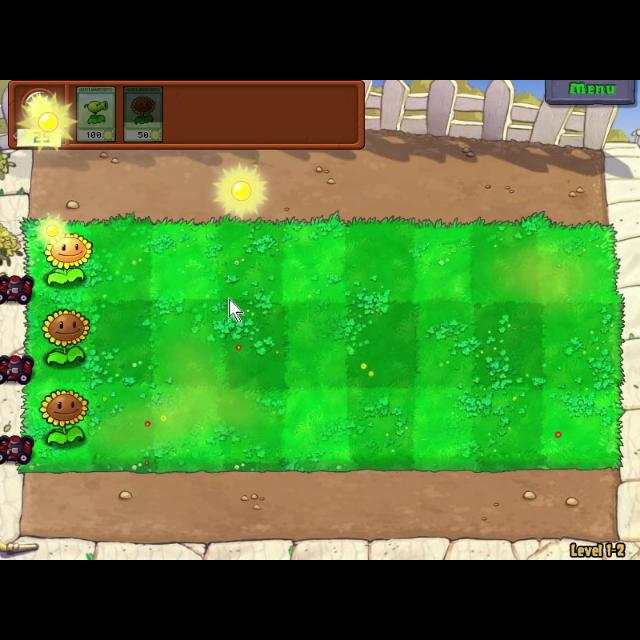Garden: (15, 213, 627, 477)
Menu Button: (540, 80, 638, 106)
Mower: (0, 270, 38, 306), (0, 349, 34, 387), (0, 432, 34, 464)
Peashooter: (75, 83, 117, 143)
Seed Panel: (5, 80, 367, 152)
Sun: (213, 162, 269, 220), (21, 96, 78, 150), (34, 216, 72, 244)
Sunflower: (123, 84, 165, 144)
Sunflower Seed: (34, 386, 100, 452), (37, 306, 93, 374), (33, 230, 95, 288)
